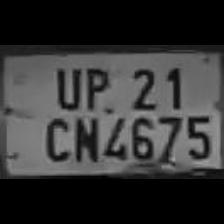1: (160, 61, 186, 108)
2: (124, 62, 158, 110)
4: (100, 110, 126, 162)
5: (180, 111, 212, 161)
6: (127, 111, 155, 163)
7: (154, 112, 180, 164)
C: (39, 113, 71, 161)
N: (69, 113, 99, 161)
P: (78, 61, 112, 109)
U: (50, 61, 82, 108)
